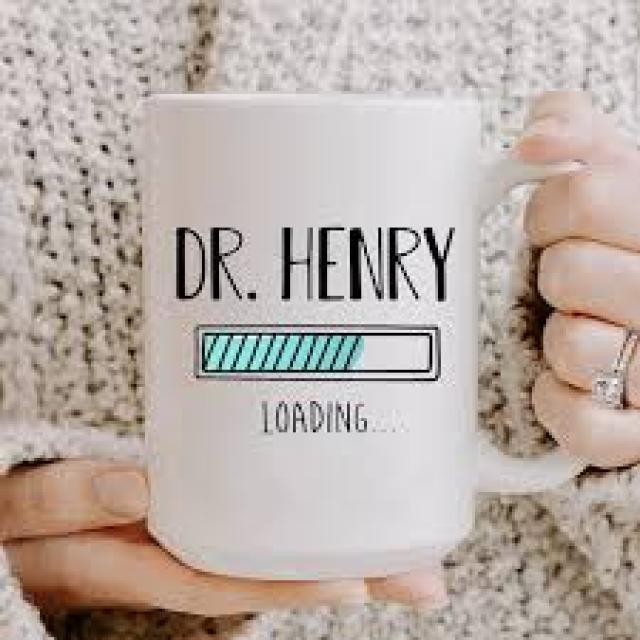taza: (125, 76, 609, 585)
